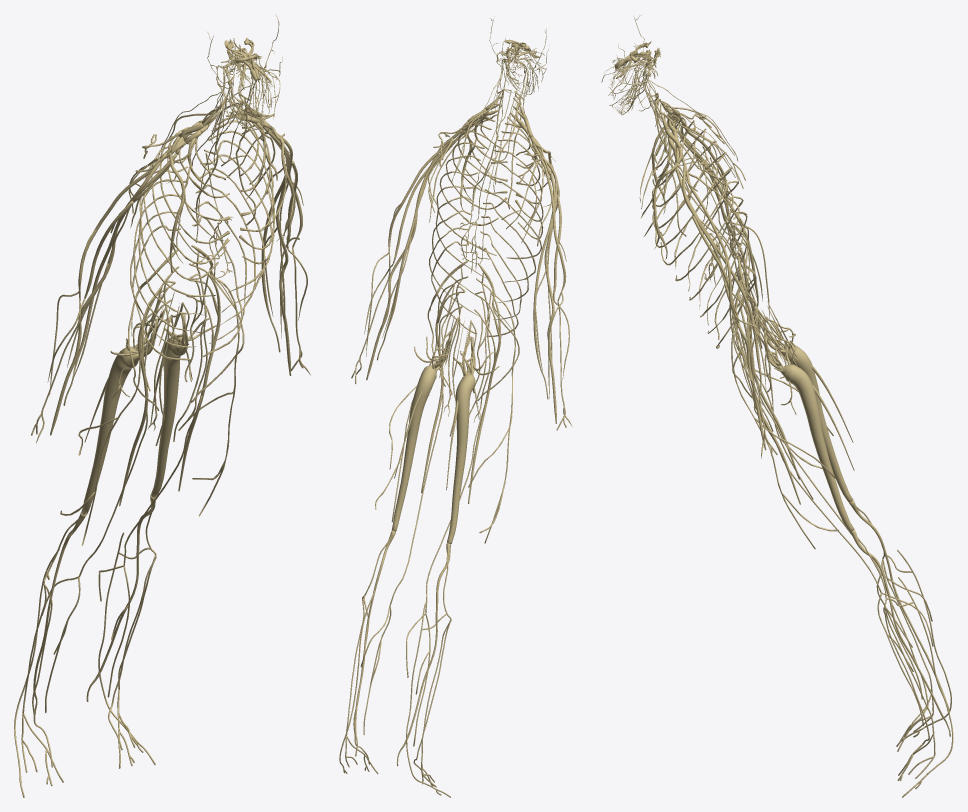
Rendered from atlas_nervous_mni152.peripheral.LOD2.glb.
3 renders of one model, left to right at view 1: azimuth 30°, elevation 25°; view 2: azimuth 150°, elevation 25°; view 3: azimuth 270°, elevation 25°, orthographic. The views are drawn at different scales.
Visible parts, largest first — view 1: ATLAS.NERVOUS.MNI152.PERIPHERAL.INTERCOSTAL_NERVES_RIGHT.R, ATLAS.NERVOUS.MNI152.PERIPHERAL.INTERCOSTAL_NERVES_LEFT.L, ATLAS.NERVOUS.MNI152.PERIPHERAL.SCIATIC_NERVE_RIGHT.R, ATLAS.NERVOUS.MNI152.PERIPHERAL.SCIATIC_NERVE_LEFT.L, ATLAS.NERVOUS.MNI152.PERIPHERAL.LUMBOSACRAL_PLEXUS_PROXIMAL_ (×2), ATLAS.NERVOUS.MNI152.PERIPHERAL.MEDIAL_AND_LATERAL_PECTORAL_ (×2), ATLAS.NERVOUS.MNI152.PERIPHERAL.LATERAL_FEMORAL_CUTANEOUS_NE (×2), ATLAS.NERVOUS.MNI152.PERIPHERAL.MEDIAN_NERVE_RIGHT.R, ATLAS.NERVOUS.MNI152.PERIPHERAL.FEMORAL_NERVE_LEFT.L, ATLAS.NERVOUS.MNI152.PERIPHERAL.SAPHENOUS_NERVE_LEFT.L, ATLAS.NERVOUS.MNI152.PERIPHERAL.FEMORAL_NERVE_RIGHT.R, ATLAS.NERVOUS.MNI152.PERIPHERAL.MEDIAN_NERVE_LEFT.L (+13 smaller); view 2: ATLAS.NERVOUS.MNI152.PERIPHERAL.INTERCOSTAL_NERVES_LEFT.L, ATLAS.NERVOUS.MNI152.PERIPHERAL.INTERCOSTAL_NERVES_RIGHT.R, ATLAS.NERVOUS.MNI152.PERIPHERAL.SCIATIC_NERVE_RIGHT.R, ATLAS.NERVOUS.MNI152.PERIPHERAL.SCIATIC_NERVE_LEFT.L, ATLAS.NERVOUS.MNI152.PERIPHERAL.LUMBOSACRAL_PLEXUS_PROXIMAL_ (×2), ATLAS.NERVOUS.MNI152.PERIPHERAL.LATERAL_FEMORAL_CUTANEOUS_NE (×2), ATLAS.NERVOUS.MNI152.PERIPHERAL.SAPHENOUS_NERVE_LEFT.L, ATLAS.NERVOUS.MNI152.PERIPHERAL.FEMORAL_NERVE_RIGHT.R, ATLAS.NERVOUS.MNI152.PERIPHERAL.SAPHENOUS_NERVE_RIGHT.R, ATLAS.NERVOUS.MNI152.PERIPHERAL.MEDIAN_NERVE_RIGHT.R, ATLAS.NERVOUS.MNI152.PERIPHERAL.FEMORAL_NERVE_LEFT.L, ATLAS.NERVOUS.MNI152.PERIPHERAL.ULNAR_NERVE_RIGHT.R (+9 smaller); view 3: ATLAS.NERVOUS.MNI152.PERIPHERAL.SCIATIC_NERVE_LEFT.L, ATLAS.NERVOUS.MNI152.PERIPHERAL.INTERCOSTAL_NERVES_LEFT.L, ATLAS.NERVOUS.MNI152.PERIPHERAL.INTERCOSTAL_NERVES_RIGHT.R, ATLAS.NERVOUS.MNI152.PERIPHERAL.SCIATIC_NERVE_RIGHT.R, ATLAS.NERVOUS.MNI152.PERIPHERAL.LUMBOSACRAL_PLEXUS_PROXIMAL_, ATLAS.NERVOUS.MNI152.PERIPHERAL.SAPHENOUS_NERVE_RIGHT.R, ATLAS.NERVOUS.MNI152.PERIPHERAL.SAPHENOUS_NERVE_LEFT.L, ATLAS.NERVOUS.MNI152.PERIPHERAL.LATERAL_FEMORAL_CUTANEOUS_NE, ATLAS.NERVOUS.MNI152.PERIPHERAL.MEDIAN_NERVE_LEFT.L, ATLAS.NERVOUS.MNI152.PERIPHERAL.ULNAR_NERVE_LEFT.L, ATLAS.NERVOUS.MNI152.PERIPHERAL.TIBIAL_NERVE_LEFT.L, ATLAS.NERVOUS.MNI152.PERIPHERAL.FEMORAL_NERVE_LEFT.L (+2 smaller).
Part boxes in pixels (x1,y1,x2,y2): ATLAS.NERVOUS.MNI152.PERIPHERAL.INTERCOSTAL_NERVES_RIGHT.R: (130, 123, 229, 360); ATLAS.NERVOUS.MNI152.PERIPHERAL.INTERCOSTAL_NERVES_LEFT.L: (192, 114, 274, 356); ATLAS.NERVOUS.MNI152.PERIPHERAL.SCIATIC_NERVE_RIGHT.R: (81, 320, 156, 515); ATLAS.NERVOUS.MNI152.PERIPHERAL.SCIATIC_NERVE_LEFT.L: (151, 313, 188, 498); ATLAS.NERVOUS.MNI152.PERIPHERAL.LUMBOSACRAL_PLEXUS_PROXIMAL_ (×2): (110, 245, 244, 410); ATLAS.NERVOUS.MNI152.PERIPHERAL.MEDIAL_AND_LATERAL_PECTORAL_ (×2): (166, 122, 295, 271); ATLAS.NERVOUS.MNI152.PERIPHERAL.LATERAL_FEMORAL_CUTANEOUS_NE (×2): (60, 274, 239, 545); ATLAS.NERVOUS.MNI152.PERIPHERAL.MEDIAN_NERVE_RIGHT.R: (50, 152, 166, 435); ATLAS.NERVOUS.MNI152.PERIPHERAL.FEMORAL_NERVE_LEFT.L: (178, 263, 220, 491); ATLAS.NERVOUS.MNI152.PERIPHERAL.SAPHENOUS_NERVE_LEFT.L: (98, 395, 202, 697); ATLAS.NERVOUS.MNI152.PERIPHERAL.FEMORAL_NERVE_RIGHT.R: (119, 266, 179, 506); ATLAS.NERVOUS.MNI152.PERIPHERAL.MEDIAN_NERVE_LEFT.L: (269, 129, 292, 375); ATLAS.NERVOUS.MNI152.PERIPHERAL.INTERCOSTAL_NERVES_LEFT.L: (429, 119, 507, 333); ATLAS.NERVOUS.MNI152.PERIPHERAL.INTERCOSTAL_NERVES_RIGHT.R: (478, 123, 543, 336); ATLAS.NERVOUS.MNI152.PERIPHERAL.SCIATIC_NERVE_RIGHT.R: (447, 336, 475, 544); ATLAS.NERVOUS.MNI152.PERIPHERAL.SCIATIC_NERVE_LEFT.L: (391, 334, 449, 531); ATLAS.NERVOUS.MNI152.PERIPHERAL.LUMBOSACRAL_PLEXUS_PROXIMAL_ (×2): (414, 260, 519, 418); ATLAS.NERVOUS.MNI152.PERIPHERAL.LATERAL_FEMORAL_CUTANEOUS_NE (×2): (375, 283, 515, 543); ATLAS.NERVOUS.MNI152.PERIPHERAL.SAPHENOUS_NERVE_LEFT.L: (360, 390, 443, 734); ATLAS.NERVOUS.MNI152.PERIPHERAL.FEMORAL_NERVE_RIGHT.R: (468, 278, 501, 503); ATLAS.NERVOUS.MNI152.PERIPHERAL.SAPHENOUS_NERVE_RIGHT.R: (406, 407, 483, 746); ATLAS.NERVOUS.MNI152.PERIPHERAL.MEDIAN_NERVE_RIGHT.R: (539, 152, 557, 423); ATLAS.NERVOUS.MNI152.PERIPHERAL.FEMORAL_NERVE_LEFT.L: (421, 276, 468, 493); ATLAS.NERVOUS.MNI152.PERIPHERAL.ULNAR_NERVE_RIGHT.R: (533, 148, 555, 399); ATLAS.NERVOUS.MNI152.PERIPHERAL.SCIATIC_NERVE_LEFT.L: (764, 330, 854, 531); ATLAS.NERVOUS.MNI152.PERIPHERAL.INTERCOSTAL_NERVES_LEFT.L: (652, 125, 750, 348); ATLAS.NERVOUS.MNI152.PERIPHERAL.INTERCOSTAL_NERVES_RIGHT.R: (652, 117, 748, 339); ATLAS.NERVOUS.MNI152.PERIPHERAL.SCIATIC_NERVE_RIGHT.R: (764, 320, 852, 502); ATLAS.NERVOUS.MNI152.PERIPHERAL.LUMBOSACRAL_PLEXUS_PROXIMAL_: (732, 258, 797, 414); ATLAS.NERVOUS.MNI152.PERIPHERAL.SAPHENOUS_NERVE_RIGHT.R: (756, 382, 932, 699); ATLAS.NERVOUS.MNI152.PERIPHERAL.SAPHENOUS_NERVE_LEFT.L: (761, 417, 933, 725); ATLAS.NERVOUS.MNI152.PERIPHERAL.LATERAL_FEMORAL_CUTANEOUS_NE: (731, 293, 838, 549); ATLAS.NERVOUS.MNI152.PERIPHERAL.MEDIAN_NERVE_LEFT.L: (682, 166, 766, 450); ATLAS.NERVOUS.MNI152.PERIPHERAL.ULNAR_NERVE_LEFT.L: (674, 162, 763, 419); ATLAS.NERVOUS.MNI152.PERIPHERAL.TIBIAL_NERVE_LEFT.L: (850, 529, 950, 736); ATLAS.NERVOUS.MNI152.PERIPHERAL.FEMORAL_NERVE_LEFT.L: (738, 279, 800, 504).
Bounding box in the file's own units: 0.5891 × 1.77 × 0.7597.
